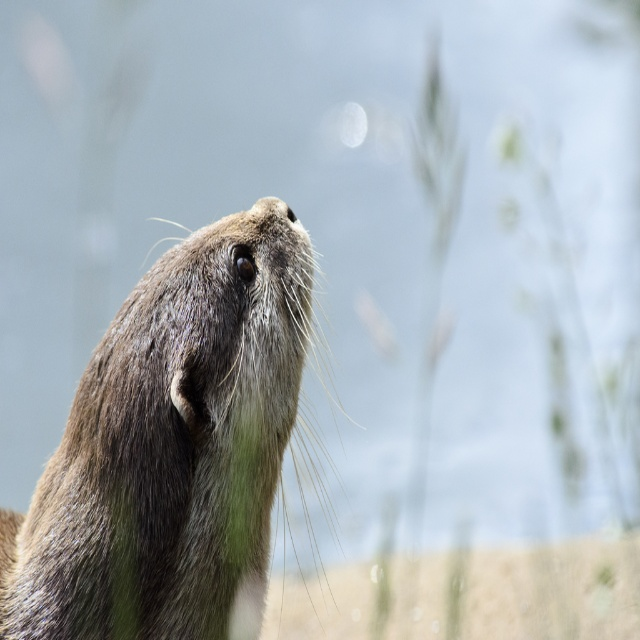Otter: (18, 168, 363, 614)
